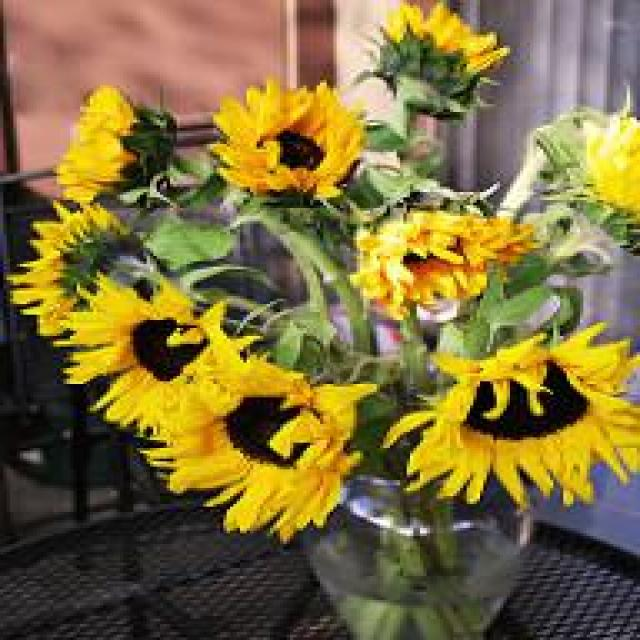sunflower: (386, 325, 640, 511), (150, 355, 373, 536), (57, 282, 243, 434), (358, 188, 532, 319), (210, 81, 370, 199), (10, 196, 143, 335), (353, 1, 507, 116), (576, 105, 640, 211)
